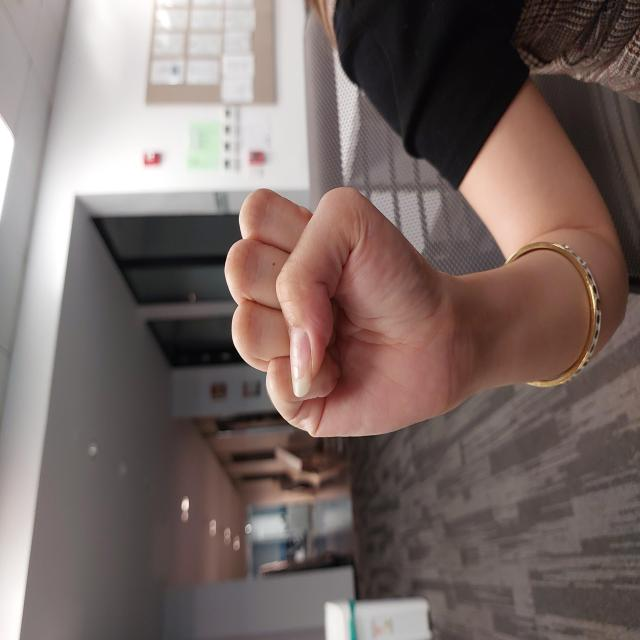S: (199, 222, 460, 477)
